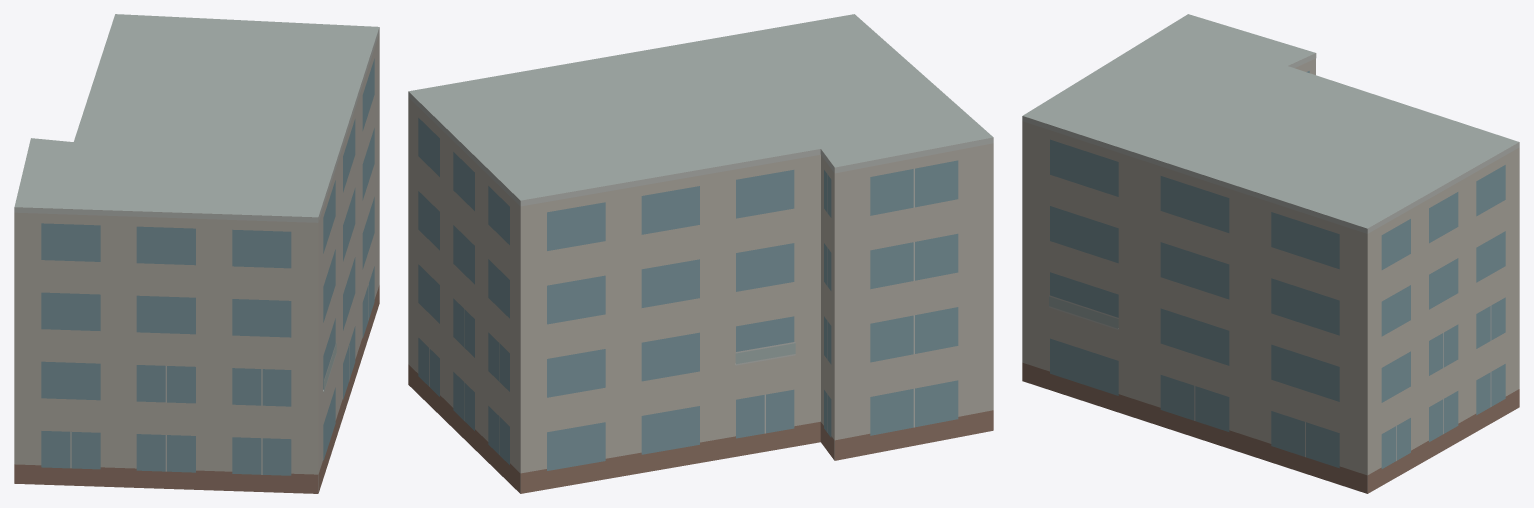
File: survey-upis-32926694.glb
3 views of the same model, side by side, from view 1: azimuth 30°, elevation 25°; view 2: azimuth 150°, elevation 25°; view 3: azimuth 270°, elevation 25° (orthographic). The views are drawn at different scales.
Parts seen in each view (by area): view 1: survey-upis-32926694.tmp; view 2: survey-upis-32926694.tmp; view 3: survey-upis-32926694.tmp.
Boxes of the visible parts, box(x1,y1,x2,y2) form: survey-upis-32926694.tmp: box(14, 14, 379, 493); survey-upis-32926694.tmp: box(408, 14, 993, 493); survey-upis-32926694.tmp: box(1022, 14, 1519, 493).
Size of the model in its own units: 21.18 by 12.2 by 20.73.
